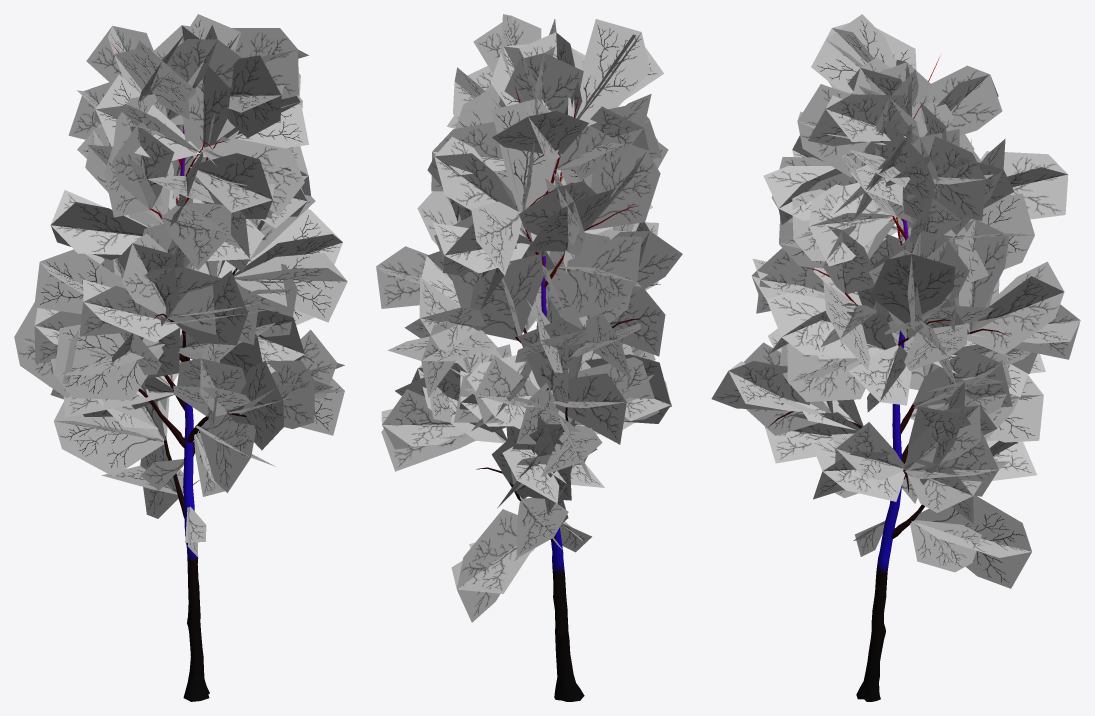
File: Tree_C_05.FBX
3 renders of one model, left to right at view 1: azimuth 30°, elevation 25°; view 2: azimuth 150°, elevation 25°; view 3: azimuth 270°, elevation 25°, orthographic. The views are drawn at different scales.
Visible parts, largest first — view 1: Tree_C_05_LOD0; view 2: Tree_C_05_LOD0; view 3: Tree_C_05_LOD0.
Part boxes in pixels (x1,y1,x2,y2): Tree_C_05_LOD0: (14, 14, 347, 701); Tree_C_05_LOD0: (376, 14, 682, 701); Tree_C_05_LOD0: (711, 14, 1080, 701).
Size of what is drawn, in the model's own units: 1029 by 2414 by 1234.
